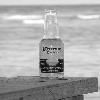beer: (36, 8, 70, 84)
